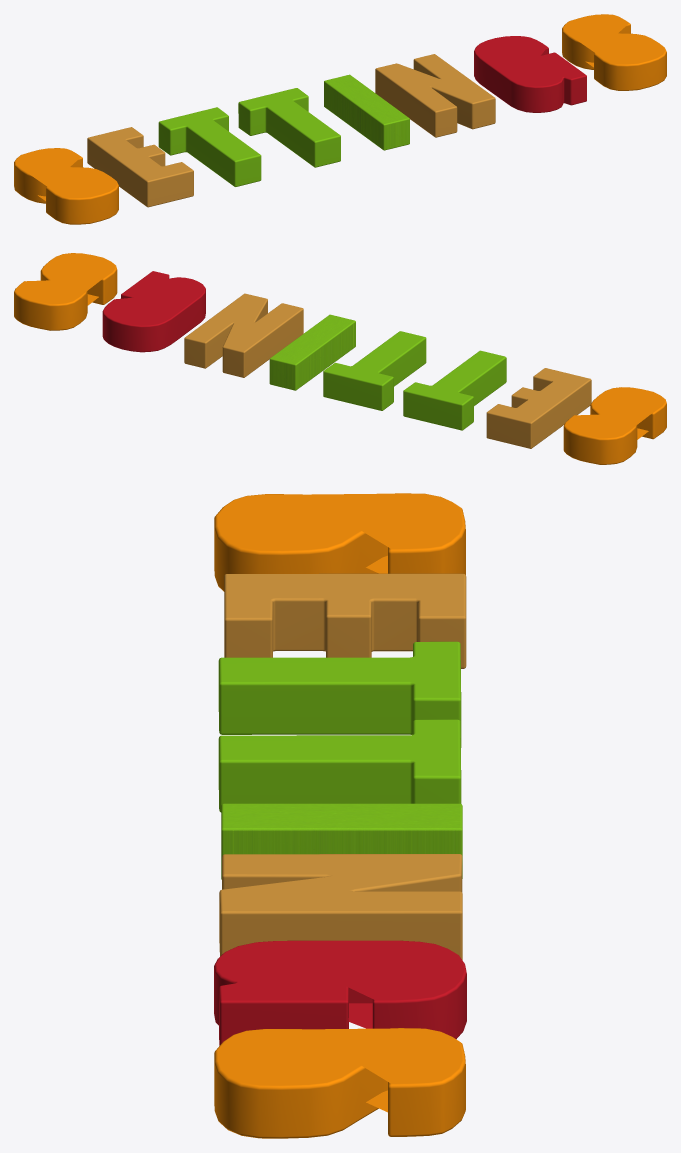
File: Schrift Settingsblend.fbx
The picture shows the model from 3 angles, top to bottom: view 1: azimuth 30°, elevation 25°; view 2: azimuth 150°, elevation 25°; view 3: azimuth 270°, elevation 25°; orthographic projection. The views are drawn at different scales.
Parts seen in each view (by area): view 1: Letter_N, Letter_G, Letter_S, Letter_S.001, Letter_E, Letter_T, Letter_T.001, Letter_I; view 2: Letter_N, Letter_G, Letter_S, Letter_S.001, Letter_E, Letter_T, Letter_T.001, Letter_I; view 3: Letter_S.001, Letter_G, Letter_N, Letter_S, Letter_E, Letter_T, Letter_T.001, Letter_I.
Part boxes in pixels (left/top/right/bottom): Letter_N: left=375, top=54, right=495, bottom=137; Letter_G: left=474, top=36, right=586, bottom=112; Letter_S: left=14, top=148, right=118, bottom=224; Letter_S.001: left=562, top=14, right=666, bottom=90; Letter_E: left=87, top=127, right=193, bottom=207; Letter_T: left=158, top=107, right=261, bottom=186; Letter_T.001: left=238, top=88, right=340, bottom=167; Letter_I: left=324, top=74, right=409, bottom=150; Letter_N: left=184, top=293, right=303, bottom=377; Letter_G: left=102, top=271, right=205, bottom=352; Letter_S: left=563, top=387, right=666, bottom=464; Letter_S.001: left=14, top=253, right=117, bottom=330; Letter_E: left=486, top=368, right=591, bottom=448; Letter_T: left=403, top=350, right=506, bottom=430; Letter_T.001: left=323, top=331, right=426, bottom=410; Letter_I: left=269, top=314, right=355, bottom=390; Letter_S.001: left=214, top=1028, right=465, bottom=1138; Letter_G: left=214, top=940, right=466, bottom=1045; Letter_N: left=219, top=854, right=462, bottom=959; Letter_S: left=214, top=493, right=465, bottom=591; Letter_E: left=224, top=573, right=466, bottom=668; Letter_T: left=218, top=641, right=461, bottom=747; Letter_T.001: left=218, top=719, right=461, bottom=812; Letter_I: left=221, top=803, right=462, bottom=879.
Bounding box in the file's own units: 22.3 × 0.9891 × 4.
Materials: 9 (9 with a texture image).
